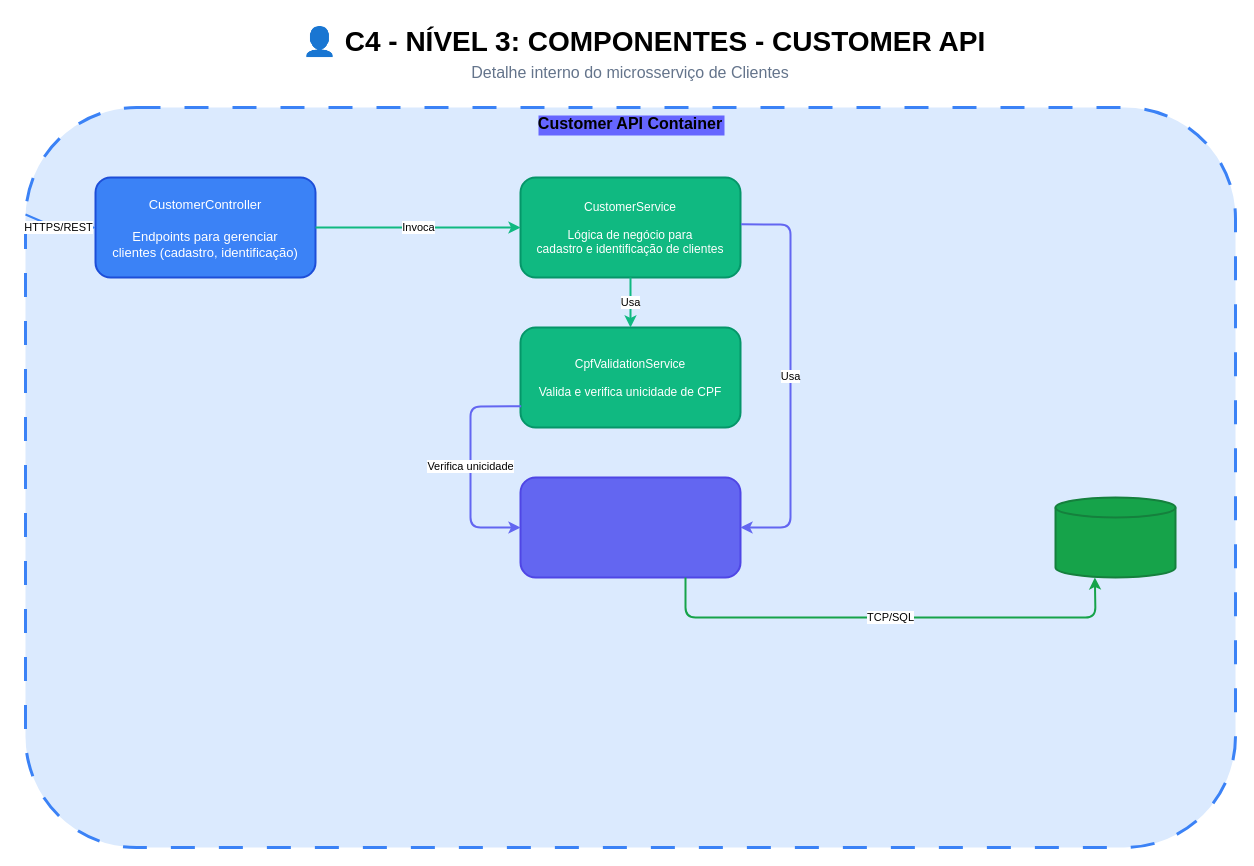
The diagram is 1254 pixels wide and 866 high, and some of its shapes have lost their labels. The shapes that lost their labels are listed below. From the top down, each one's centre as x and y in pixels, then its label:
pixel 630 527: CustomerRepository Acesso e persistência de dados de clientes no MySQL
pixel 1115 537: MySQL (Customers DB)
